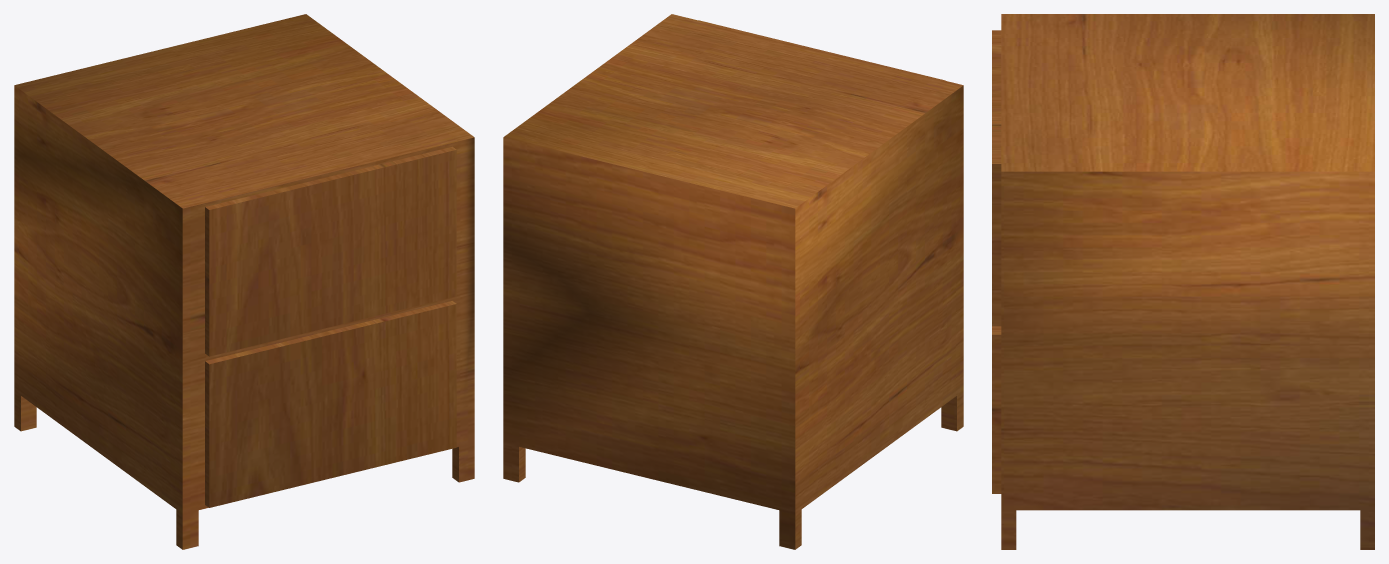
The model's file is smallTable2.fbx.
3 renders of one model, left to right at view 1: azimuth 30°, elevation 25°; view 2: azimuth 150°, elevation 25°; view 3: azimuth 270°, elevation 25°, orthographic. The views are drawn at different scales.
Visible parts, largest first — view 1: pCube1; view 2: pCube1; view 3: pCube1.
Part boxes in pixels (left/top/right/bottom): pCube1: left=14, top=14, right=474, bottom=549; pCube1: left=503, top=14, right=963, bottom=549; pCube1: left=992, top=14, right=1374, bottom=549.
Size of the model in its own units: 9.2 by 10.28 by 9.43.
